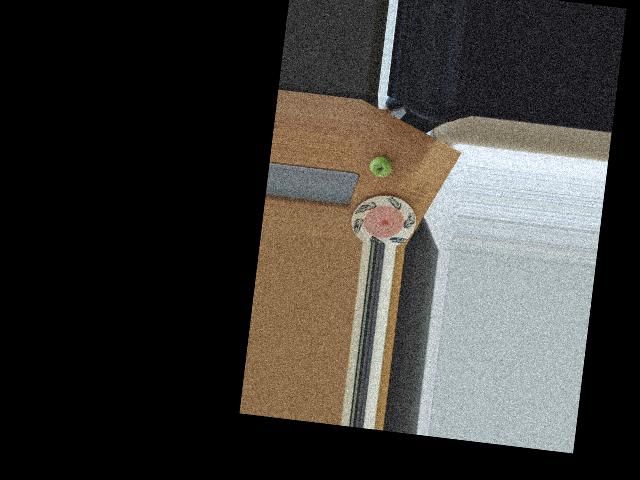apple: (368, 150, 397, 179)
